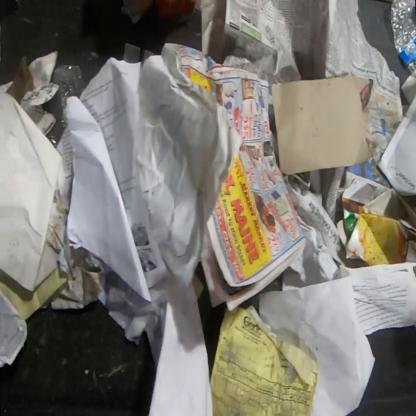cardboard: (271, 74, 372, 175), (336, 178, 415, 268)
rigid_plastic: (389, 0, 415, 79)
soft_plastic: (42, 64, 86, 150)
